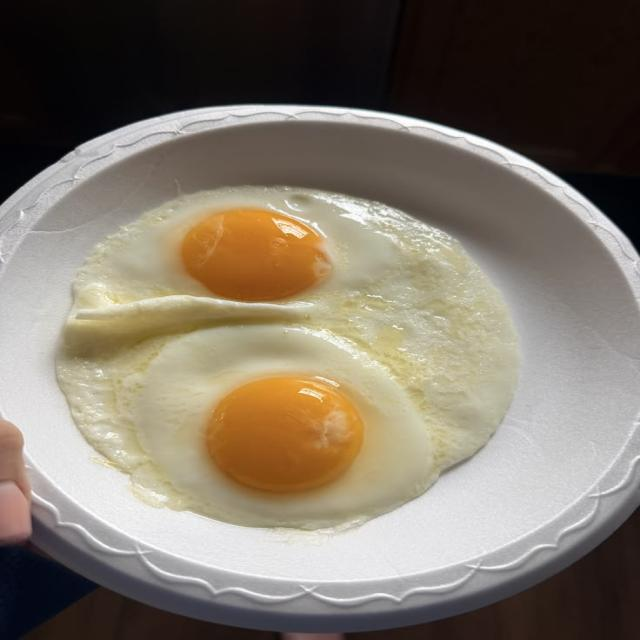fryed egg: (58, 188, 518, 528), (90, 325, 437, 529)
